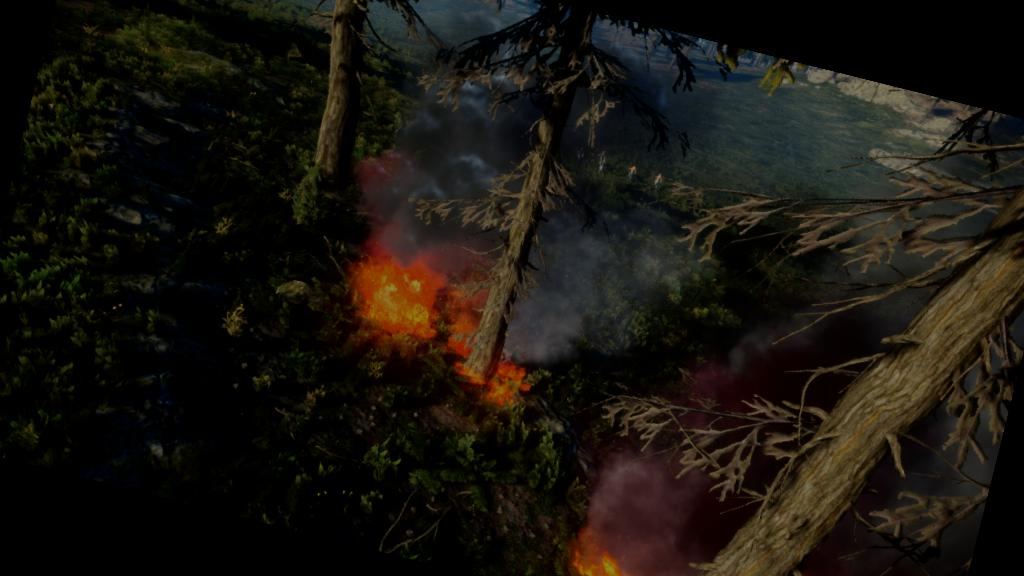Fire: (324, 230, 572, 429), (549, 495, 964, 575)
human: (621, 160, 644, 189), (592, 146, 612, 178), (647, 169, 668, 193), (570, 143, 588, 166)
smoke: (597, 223, 1023, 575), (325, 0, 723, 375)
